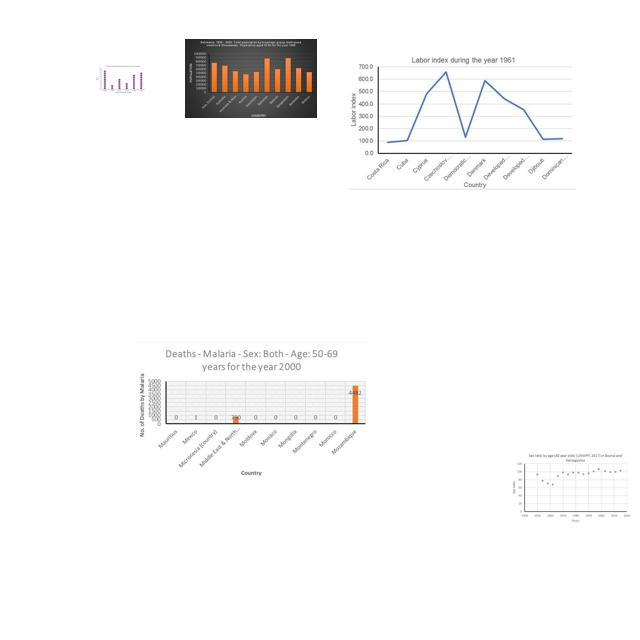Graph: (131, 342, 372, 485), (349, 53, 576, 190), (185, 39, 317, 118), (509, 450, 631, 524), (94, 65, 146, 94)
